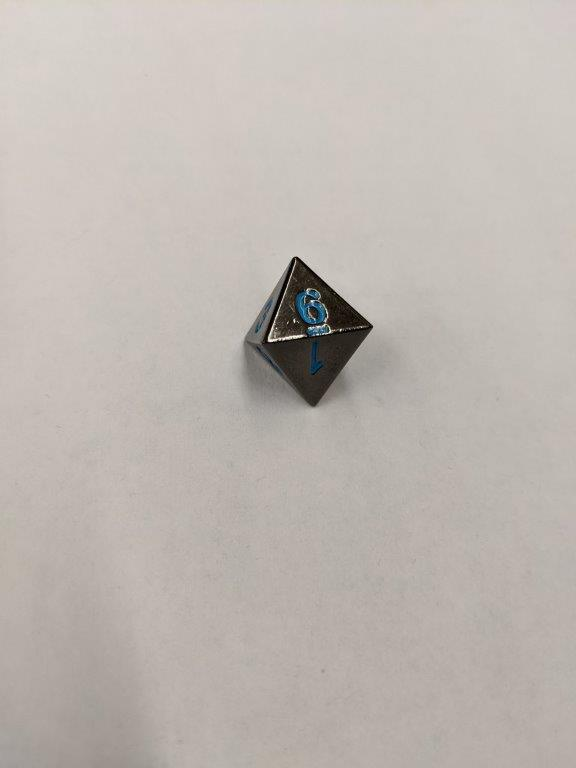d8-6: (240, 256, 373, 408)
